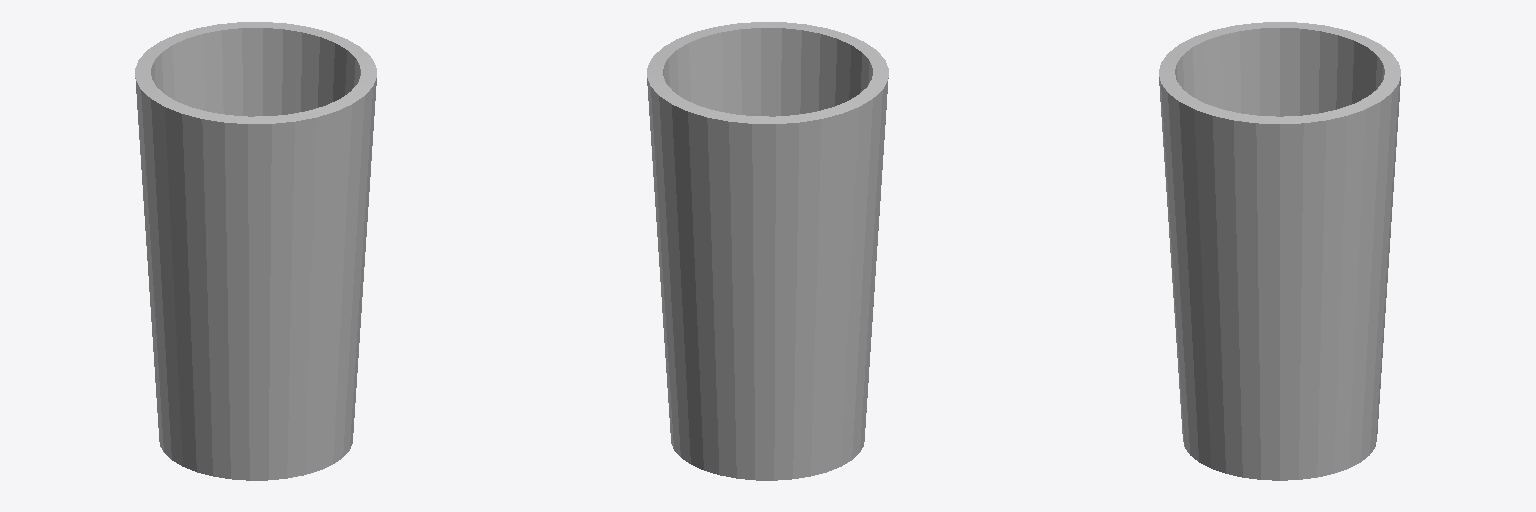
The model's file is kup.obj.
3 views of the same model, side by side, from view 1: azimuth 30°, elevation 25°; view 2: azimuth 150°, elevation 25°; view 3: azimuth 270°, elevation 25° (orthographic).
Visible parts, largest first — view 1: Cone; view 2: Cone; view 3: Cone.
Part boxes in pixels (left/top/right/bottom): Cone: left=135, top=22, right=376, bottom=480; Cone: left=647, top=22, right=888, bottom=480; Cone: left=1159, top=22, right=1400, bottom=480.
Size of the model in its own units: 0.15 by 0.2506 by 0.15.